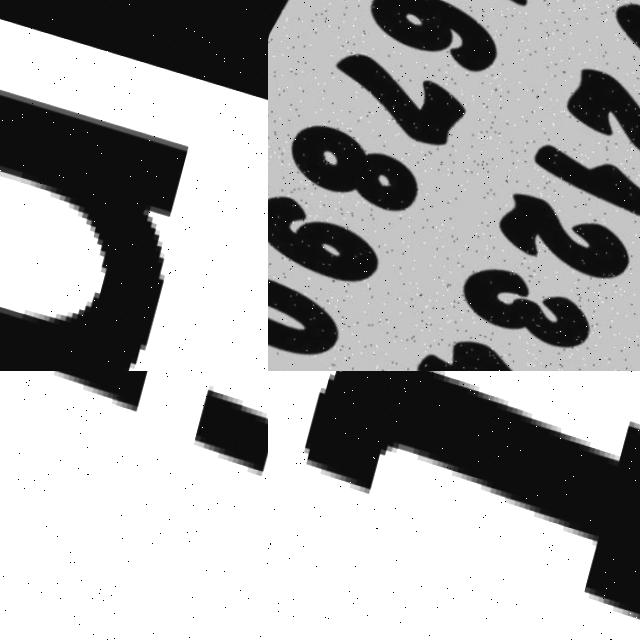0: (268, 232, 395, 371)
1: (512, 107, 640, 243)
2: (473, 158, 640, 314)
3: (433, 227, 623, 371)
4: (378, 286, 607, 371)
5: (370, 0, 583, 44)
6: (340, 0, 540, 110)
7: (303, 13, 503, 181)
8: (268, 83, 461, 252)
9: (268, 162, 416, 323)
I: (0, 371, 268, 476)
M: (0, 20, 212, 371)
T: (283, 371, 640, 640)
